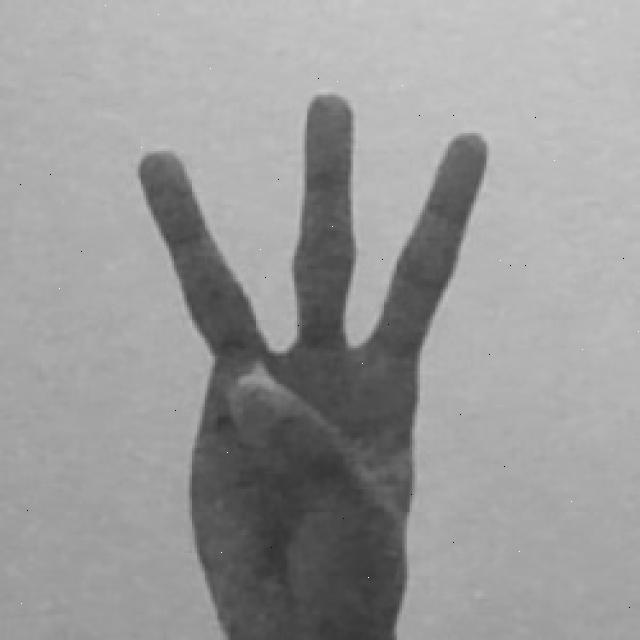W: (132, 86, 492, 640)
